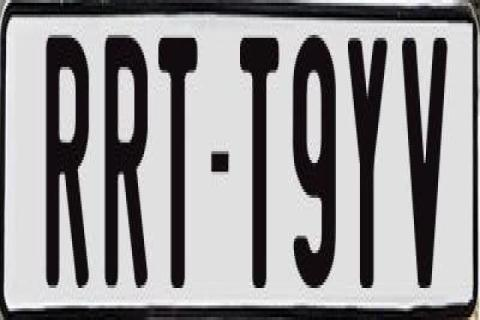0: (290, 27, 340, 297)
R: (42, 32, 88, 291), (104, 26, 148, 282)
T: (238, 38, 284, 306), (158, 29, 202, 294)
V: (398, 32, 450, 300)
Y: (348, 32, 392, 288)
